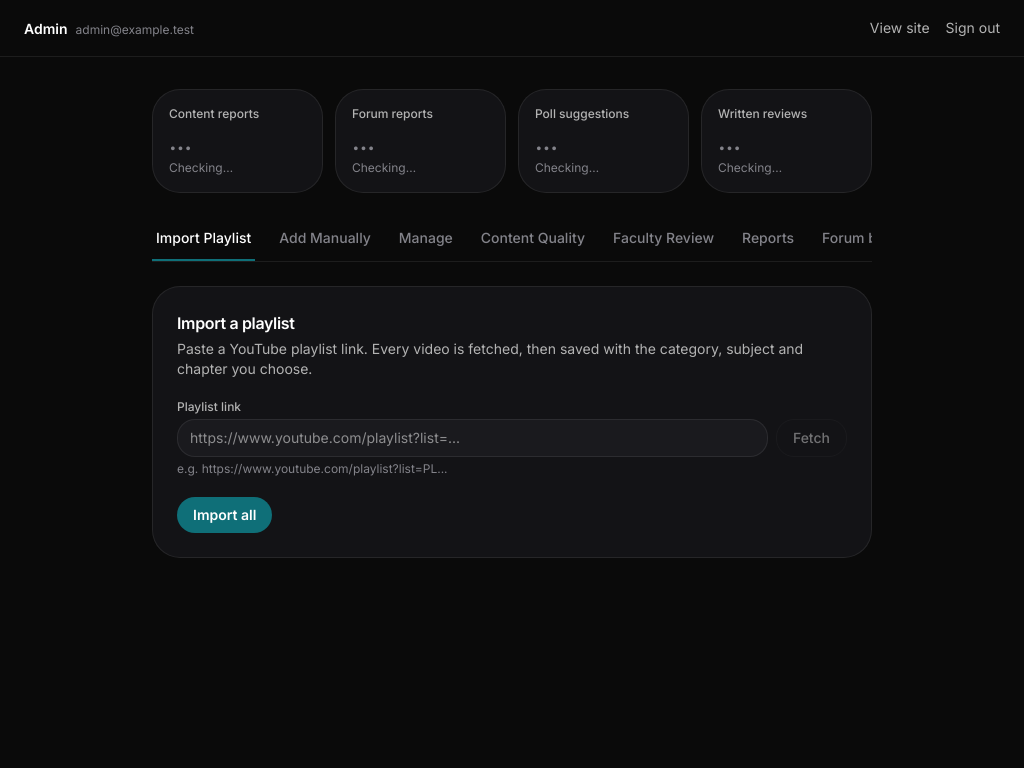
Test case: AdminPanel Reports tab › lists a pending report with its reason, target and note
Click the button "Reports": (768,239) [738,217,798,261]
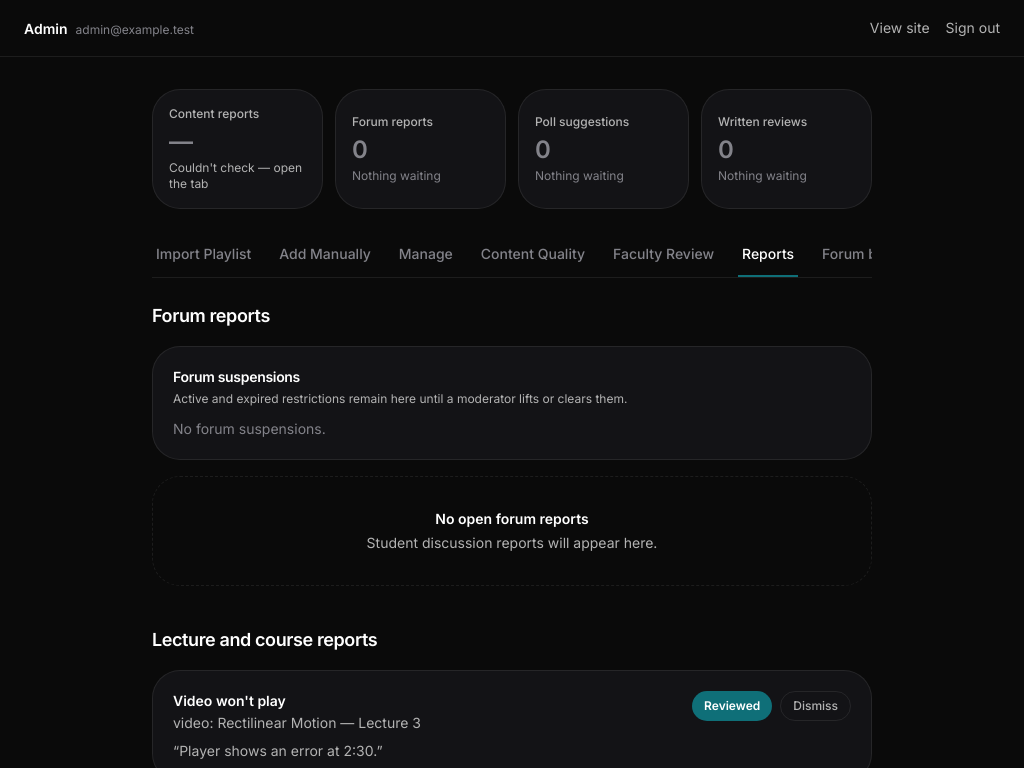
Now the text "Video won't play" is shown, box [173,692,286,709]
Now the text "video: Rectilinear Motion — Lecture 3" is shown, box [173,713,421,733]
Now the text "“Player shows an error at 2:30.”" is shown, box [173,742,383,759]
